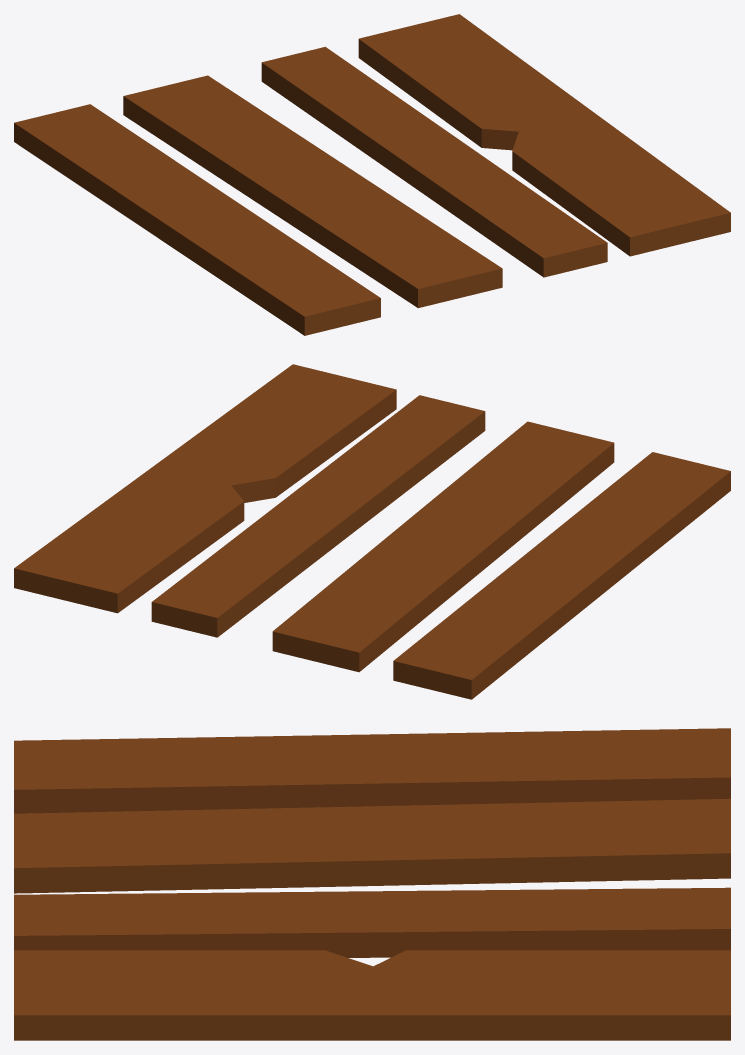
The model's file is 1mForestFence2.fbx.
3 views of the same model, one above another, from view 1: azimuth 30°, elevation 25°; view 2: azimuth 150°, elevation 25°; view 3: azimuth 270°, elevation 25° (orthographic). The views are drawn at different scales.
Parts seen in each view (by area): view 1: 1mForestFence2; view 2: 1mForestFence2; view 3: 1mForestFence2.
Boxes of the visible parts, x1=… form: 1mForestFence2: x1=14, y1=14, x2=730, y2=335; 1mForestFence2: x1=14, y1=364, x2=730, y2=699; 1mForestFence2: x1=14, y1=728, x2=730, y2=1040.
Bounding box in the file's own units: 94.76 × 3.9 × 100.
